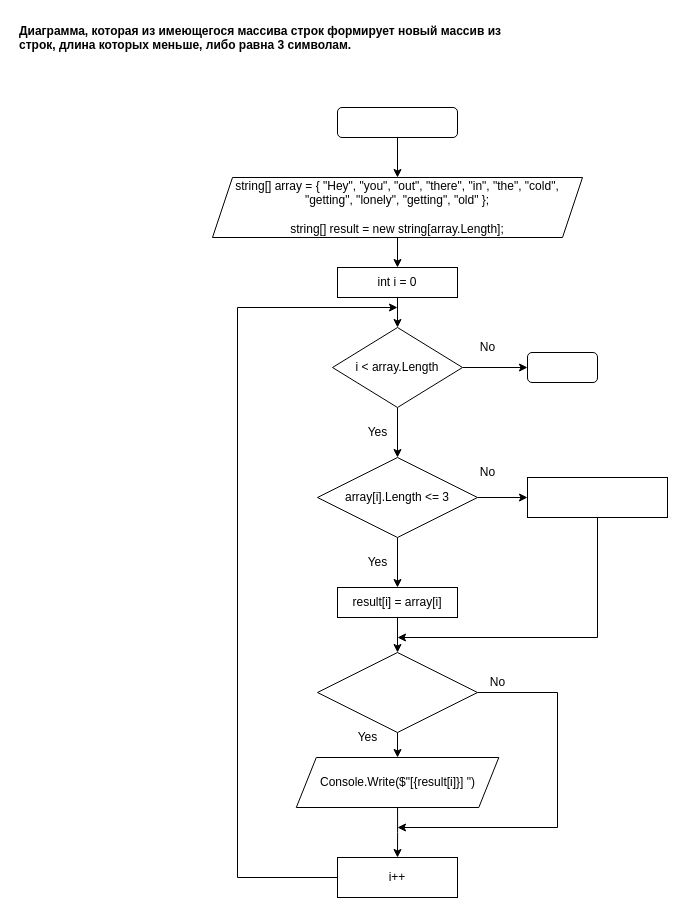
Some shapes in this 685 by 915 pixel diagram are drawn without their labels. The box of each missing label's shape, as (x1, y1, x2, y2) in pixels:
End: (526, 352, 598, 382)
result[i] != string.Empty: (316, 652, 478, 732)
result[i] = string.Empty: (526, 476, 668, 518)
Start: (336, 106, 458, 138)
